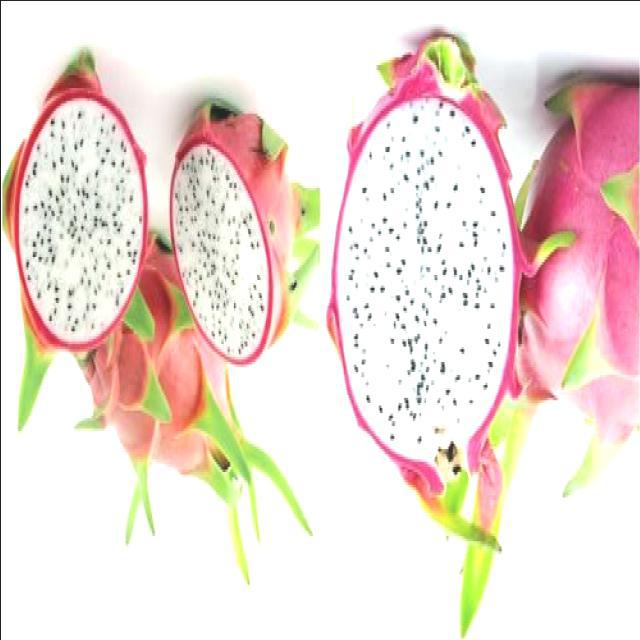trang: (453, 73, 639, 639), (326, 32, 514, 556), (80, 232, 312, 588), (1, 46, 150, 435), (168, 98, 323, 370)
